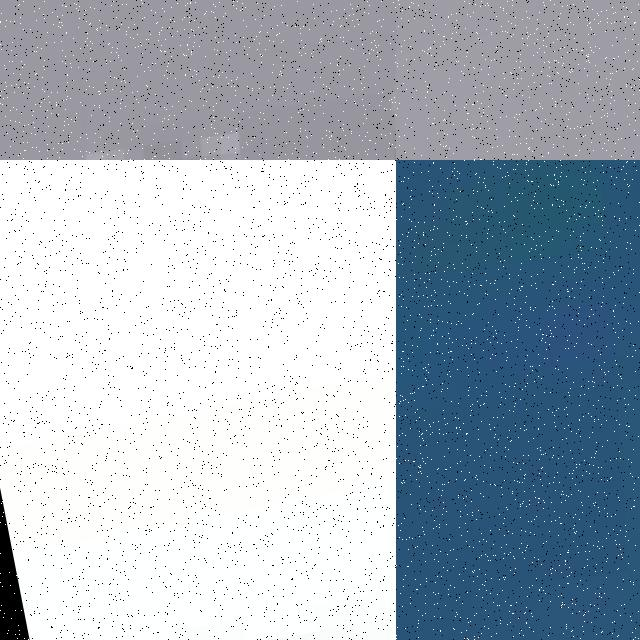0: (0, 0, 396, 160)
drone: (396, 160, 640, 640)
